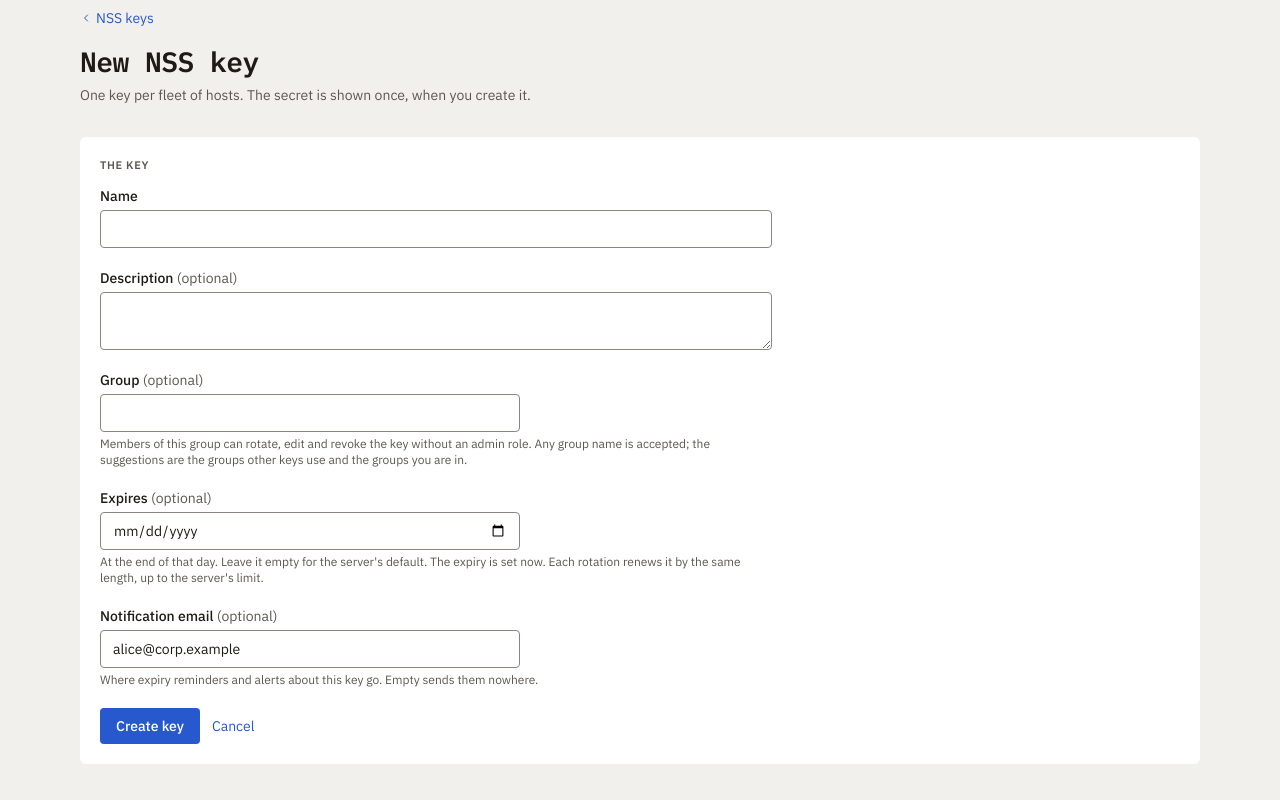
Test: New NSS key › one-time secret › should show the secret once the key is created
Type "web fleet" into the field with test id "nss-key-name" at coordinates (436, 228), box [100,210,772,248]
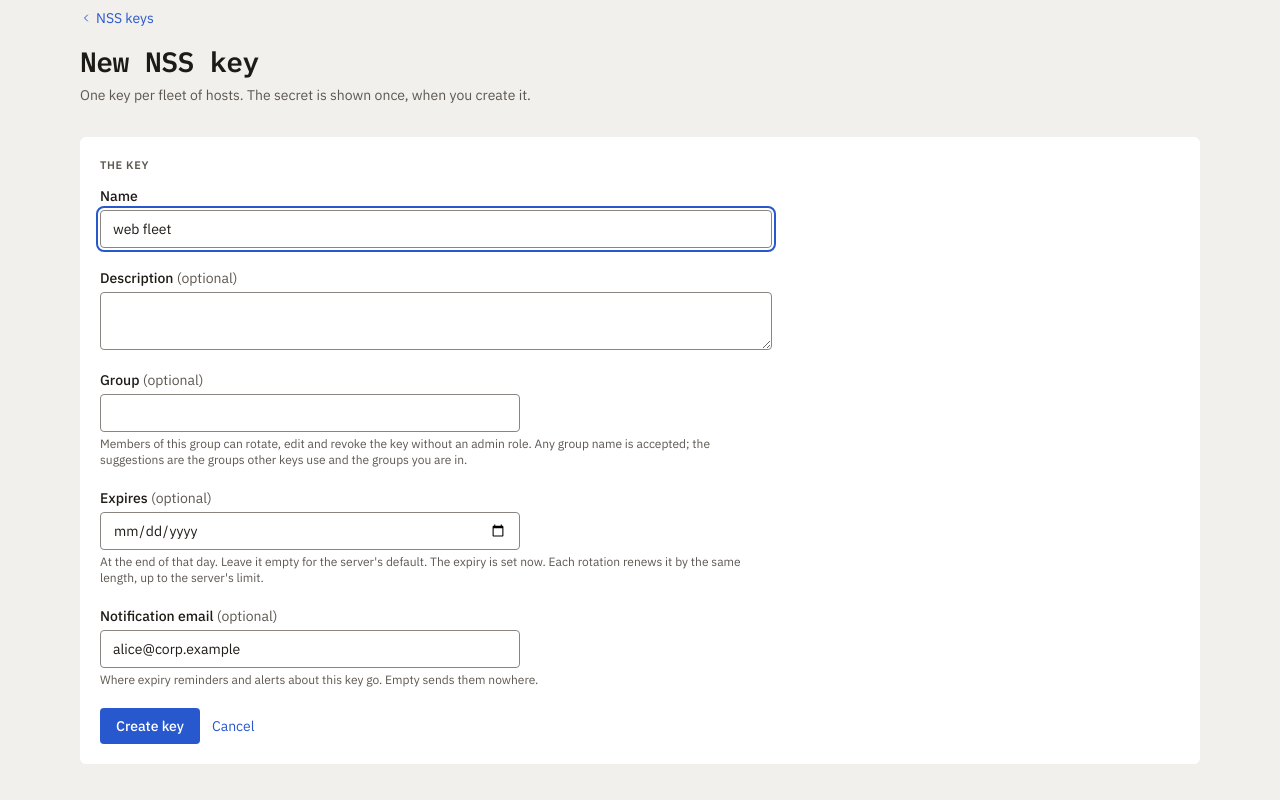
Click the button with test id "nss-key-create" at coordinates (150, 726), box [100,708,200,744]
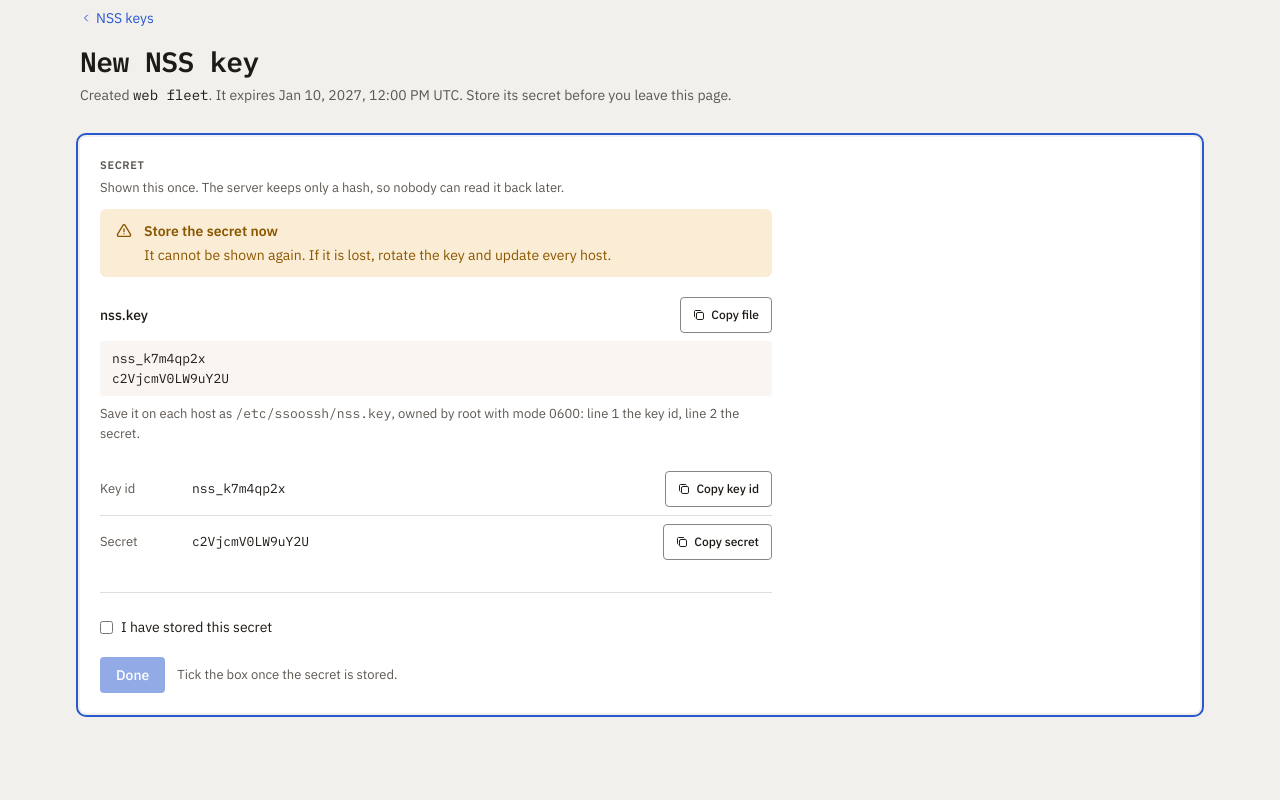
Result: the text with test id "secret-panel-secret" reads "c2VjcmV0LW9uY2U" at [192,533,309,550]
